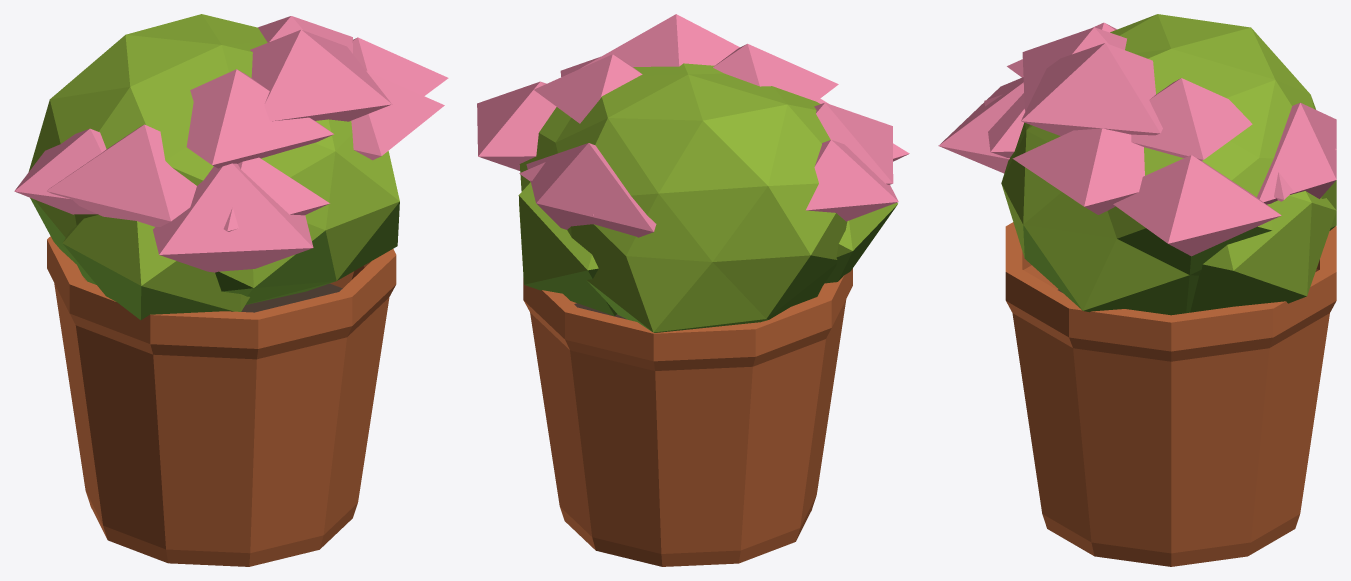
File: SM_Street_Pot_Round_No4_FlowerPink_01.gltf
3 views of the same model, side by side, from view 1: azimuth 30°, elevation 25°; view 2: azimuth 150°, elevation 25°; view 3: azimuth 270°, elevation 25° (orthographic). The views are drawn at different scales.
Parts seen in each view (by area): view 1: SM_Street_Pot_Round_No4_FlowerPink_01; view 2: SM_Street_Pot_Round_No4_FlowerPink_01; view 3: SM_Street_Pot_Round_No4_FlowerPink_01.
Boxes of the visible parts, x1,y1,x2,y2 form: SM_Street_Pot_Round_No4_FlowerPink_01: (14,14,448,566); SM_Street_Pot_Round_No4_FlowerPink_01: (477,14,909,566); SM_Street_Pot_Round_No4_FlowerPink_01: (938,14,1336,566).
Bounding box in the file's own units: 0.1739 × 0.187 × 0.1374.
1 material, 1 textured.
